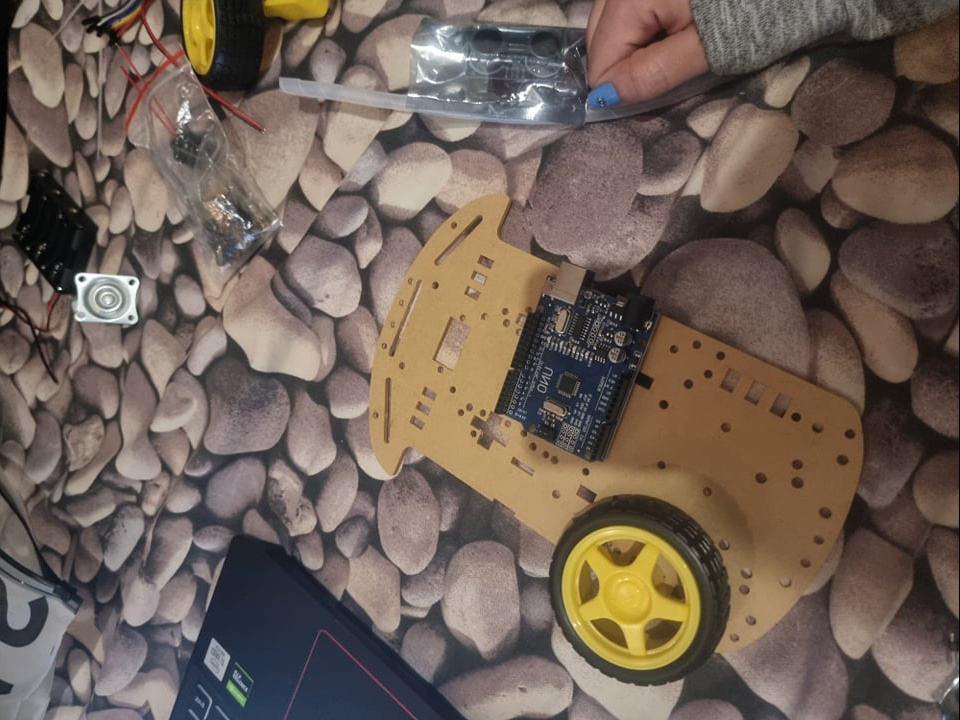BATTERY BOX: (13, 169, 101, 300)
SENSOR: (465, 23, 574, 83)
UNO R3: (490, 256, 661, 463)
